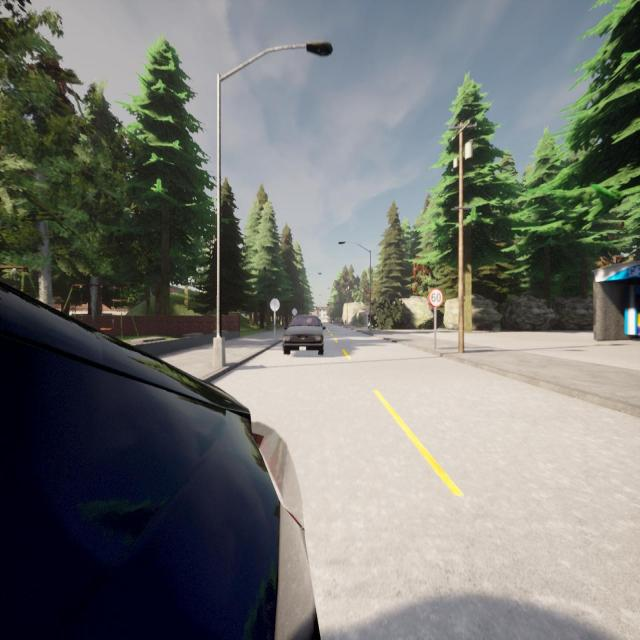Traffic_Signs: (428, 288, 444, 308), (270, 298, 280, 312), (292, 308, 298, 316)
Vehicle: (0, 285, 318, 640), (283, 314, 326, 356)
